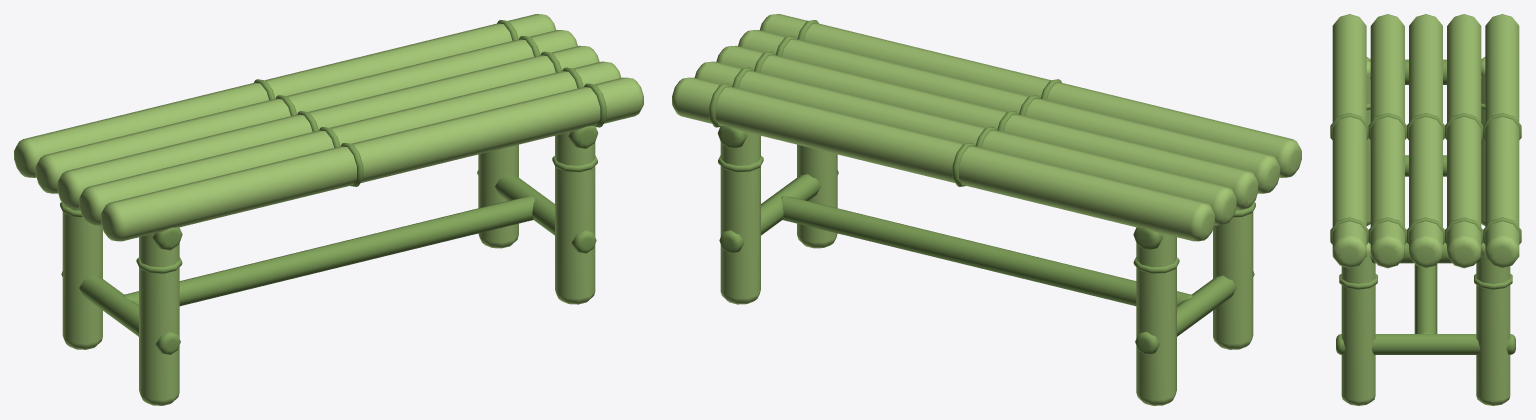
Rendered from bamboo_bench.glb.
3 renders of one model, left to right at view 1: azimuth 30°, elevation 25°; view 2: azimuth 150°, elevation 25°; view 3: azimuth 270°, elevation 25°, orthographic. The views are drawn at different scales.
Parts seen in each view (by area): view 1: bamboo_bench_mesh; view 2: bamboo_bench_mesh; view 3: bamboo_bench_mesh.
Part boxes in pixels (left/top/right/bottom): bamboo_bench_mesh: left=14, top=14, right=643, bottom=405; bamboo_bench_mesh: left=672, top=14, right=1301, bottom=405; bamboo_bench_mesh: left=1330, top=14, right=1521, bottom=405.
Size of the model in its own units: 1.2 by 0.4652 by 0.426.
